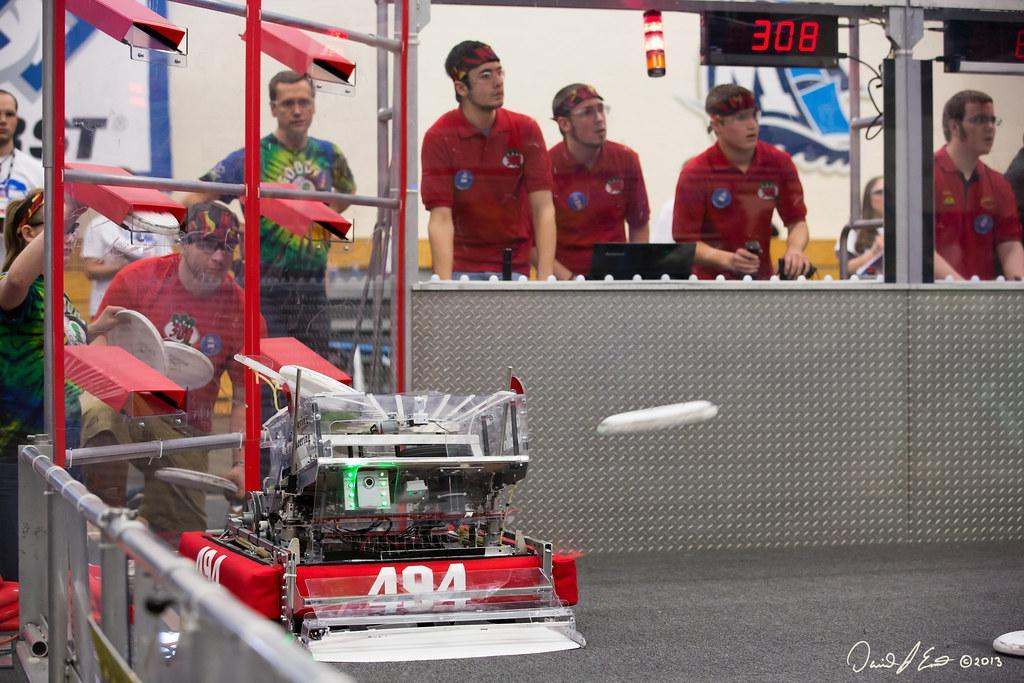robot: (176, 357, 595, 667)
